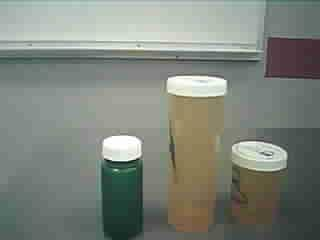Bottle A: (157, 67, 228, 235)
Bottle B: (228, 139, 292, 229)
Bottle C: (96, 134, 149, 238)
